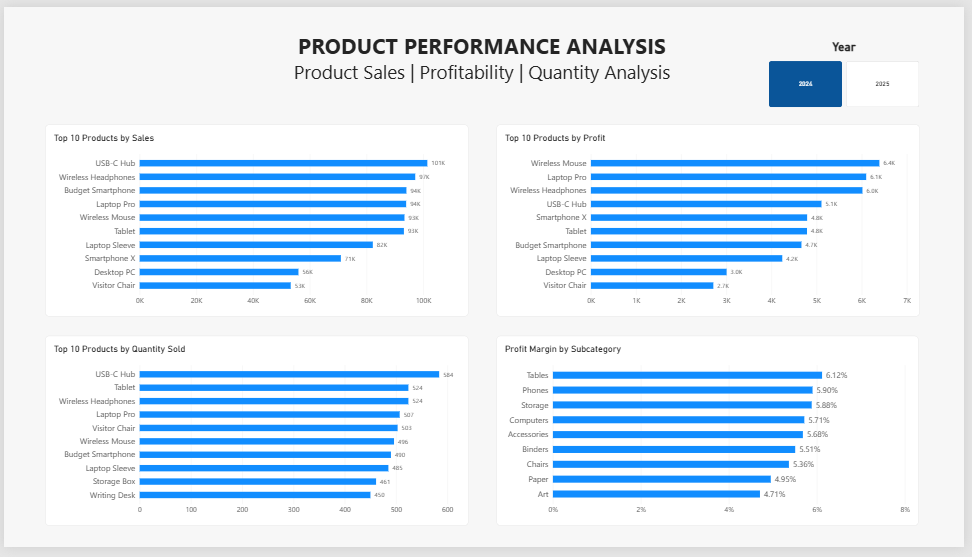

This screenshot's page, from the dashboard's own definition file:
{"tool":"powerbi","page":{"name":"Product Analysis","canvas":[1920,1080],"ordinal":1},"visuals":[{"type":"textbox","box":[506,48,902,122],"z":0},{"type":"clusteredBarChart","title":"Top 10 Products by Sales","fields":{"Category":["SalesData.Product_Name"],"Y":["SalesData.Total Sales"]},"box":[82,236,846,384],"z":1000},{"type":"clusteredBarChart","title":"Top 10 Products by Profit","fields":{"Category":["SalesData.Product_Name"],"Y":["SalesData.Total Profit"]},"box":[986,236,846,384],"z":2000},{"type":"clusteredBarChart","title":"Top 10 Products by Quantity Sold","fields":{"Category":["SalesData.Product_Name"],"Y":["Sum(SalesData.Quantity)"]},"box":[82,658,846,380],"z":3000},{"type":"clusteredBarChart","title":"Profit Margin by Subcategory","fields":{"Category":["SalesData.Sub_Category"],"Y":["SalesData.Profit Margin"]},"box":[986,658,844,380],"z":4000},{"type":"advancedSlicerVisual","fields":{"Values":["SalesData.Order_Date.Variation.Date Hierarchy.Year"]},"box":[1530,66,300,136],"z":5000}]}

Visuals, with their boxes in screenshot pixels (x1, y1, x2, y2), scaled from the page's 1920x1080 canvas onto the 972x557 screenshot:
textbox: (x1=256, y1=25, x2=713, y2=88)
"Top 10 Products by Sales" clusteredBarChart: (x1=42, y1=122, x2=470, y2=320)
"Top 10 Products by Profit" clusteredBarChart: (x1=499, y1=122, x2=927, y2=320)
"Top 10 Products by Quantity Sold" clusteredBarChart: (x1=42, y1=339, x2=470, y2=535)
"Profit Margin by Subcategory" clusteredBarChart: (x1=499, y1=339, x2=926, y2=535)
advancedSlicerVisual - SalesData.Order_Date.Variation.Date Hierarchy.Year: (x1=775, y1=34, x2=926, y2=104)
